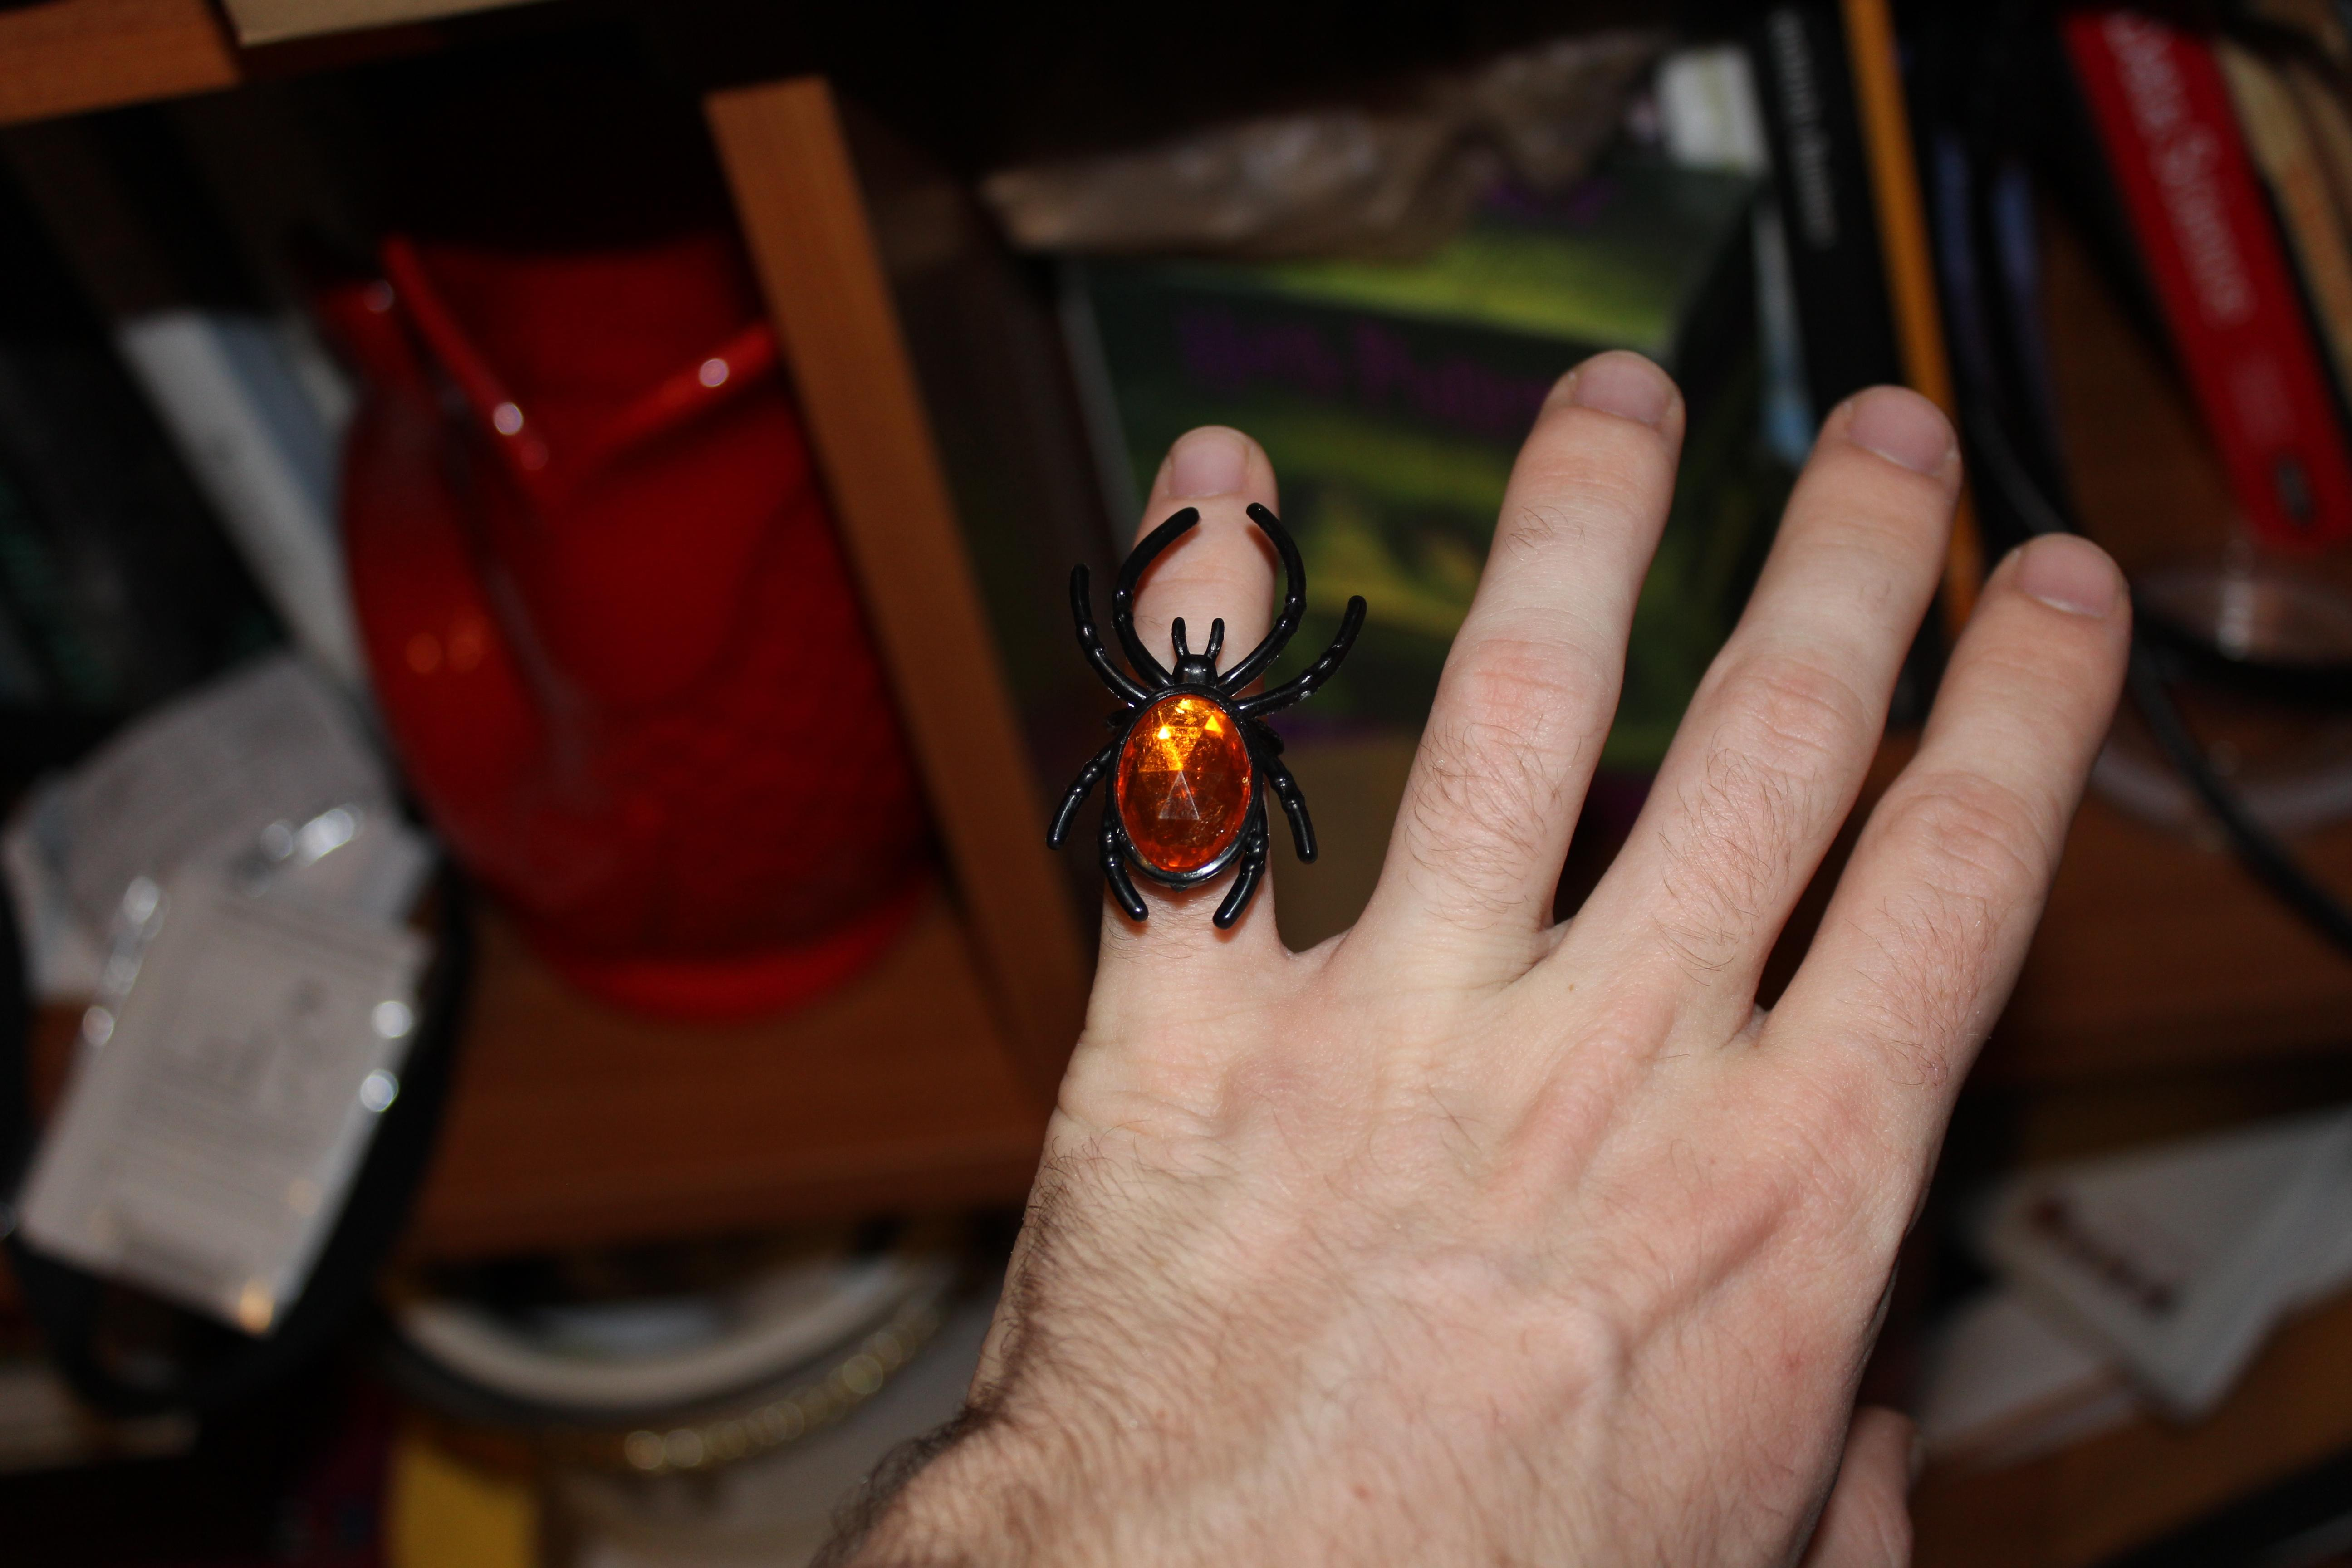spiderRing: (1003, 476, 1402, 957)
